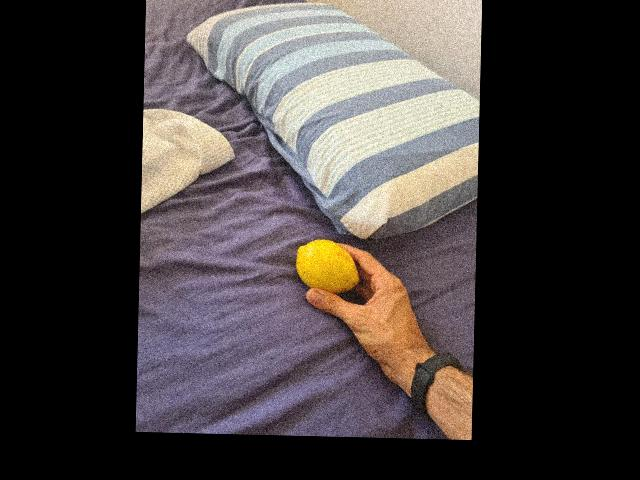lemon: (292, 240, 361, 296)
